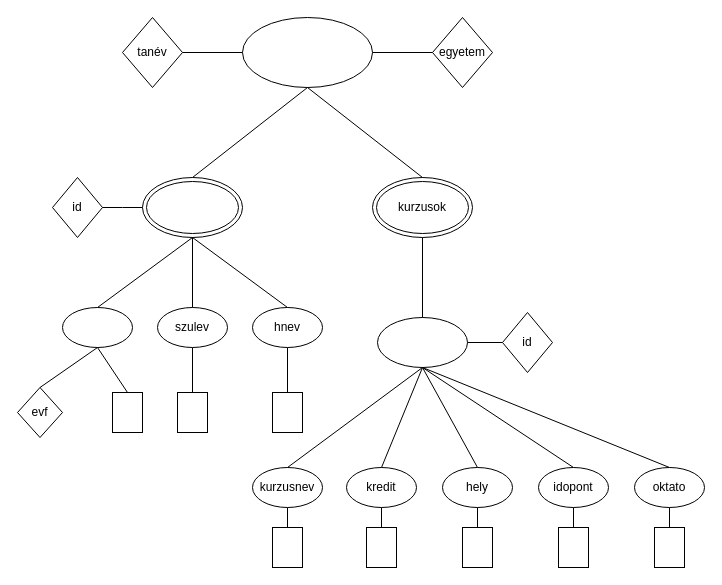
The diagram is 722 pixels wide and 585 high, and some of its shapes have lost their labels. The centre of each missing label's shape, as x and y in pixels:
"hallgato" belongs at [192,207].
"ILQ2OX_kurzusfelvetel" belongs at [307,52].
"kurzus" belongs at [422,342].
"szak" belongs at [97,327].
